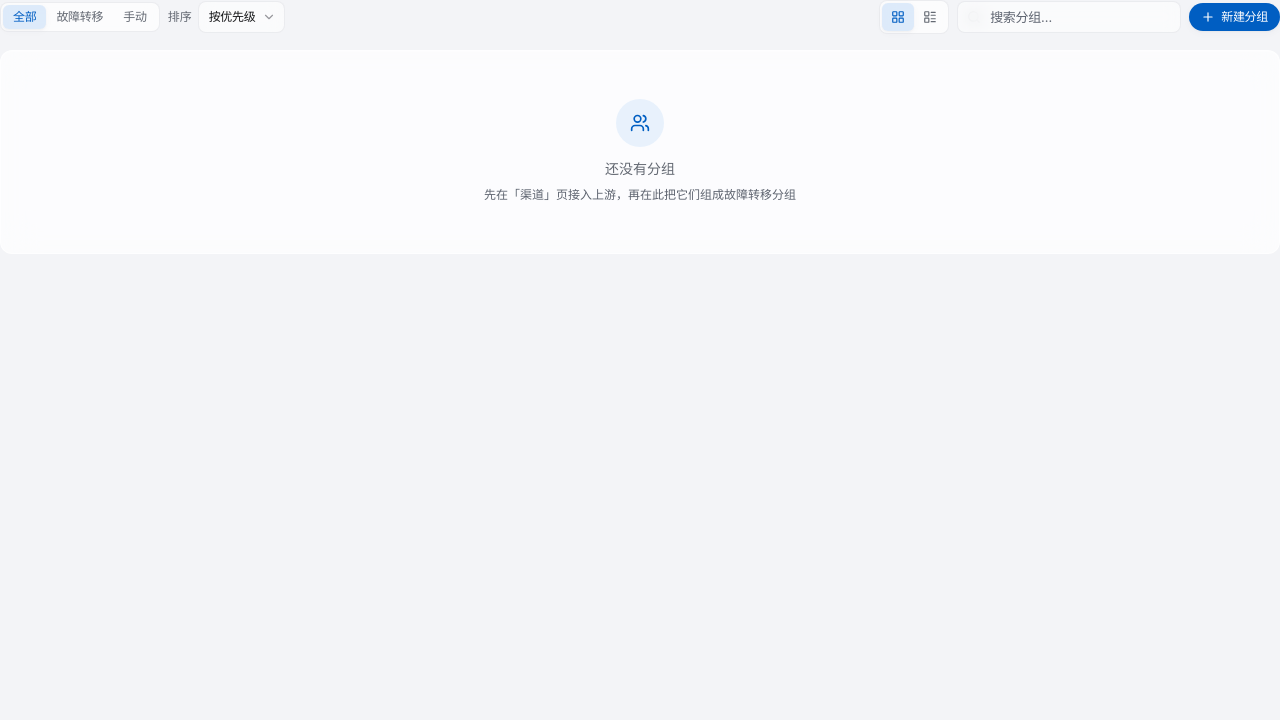
GroupEditor 保存校验 › 非法名称（NAME_RULE 不通过）时保存禁用，红字提示不可绕过
Click the button "新建分组" at x=1235, y=17, box [1189,3,1279,31]
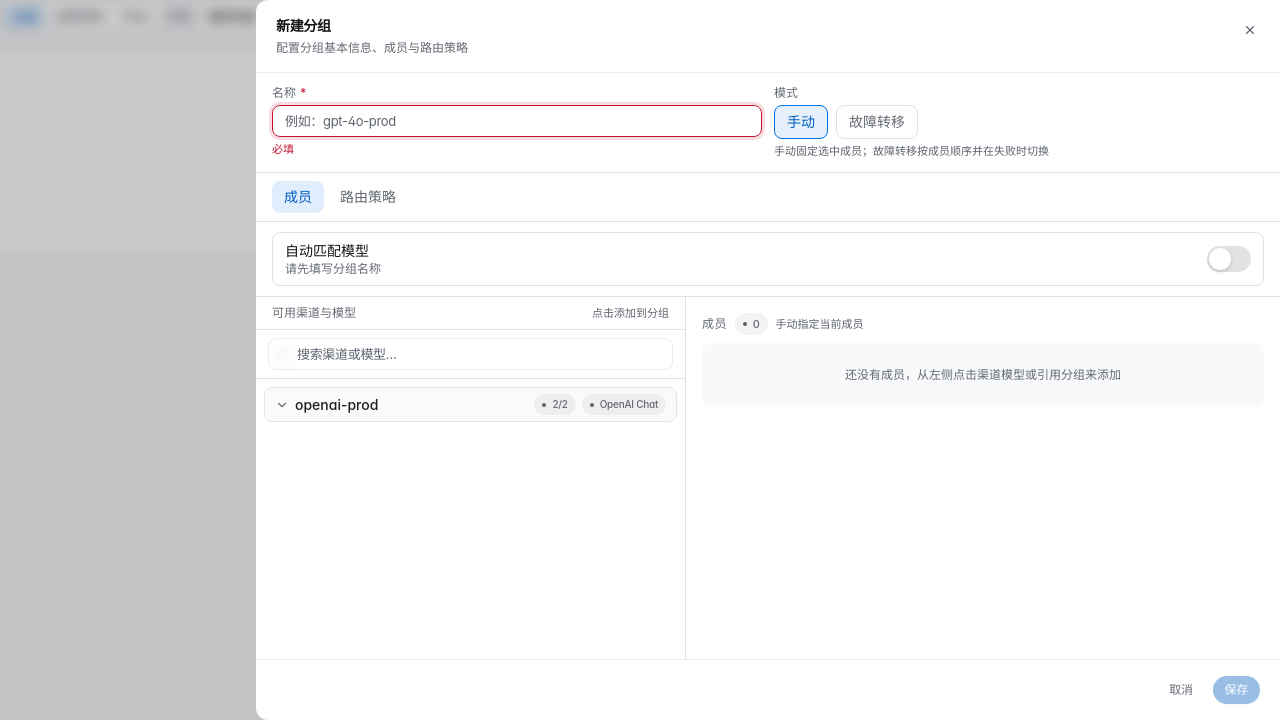
Check: the dialog is shown
Check: the button "保存" is disabled, box [1213,676,1260,704]
// Field 的 label 文本含 required 星号与 sr-only「必填」，须用前缀正则匹配
Type "a!b" into the field labelled "名称 * 必填" at x=517, y=121, box [272,105,762,137]
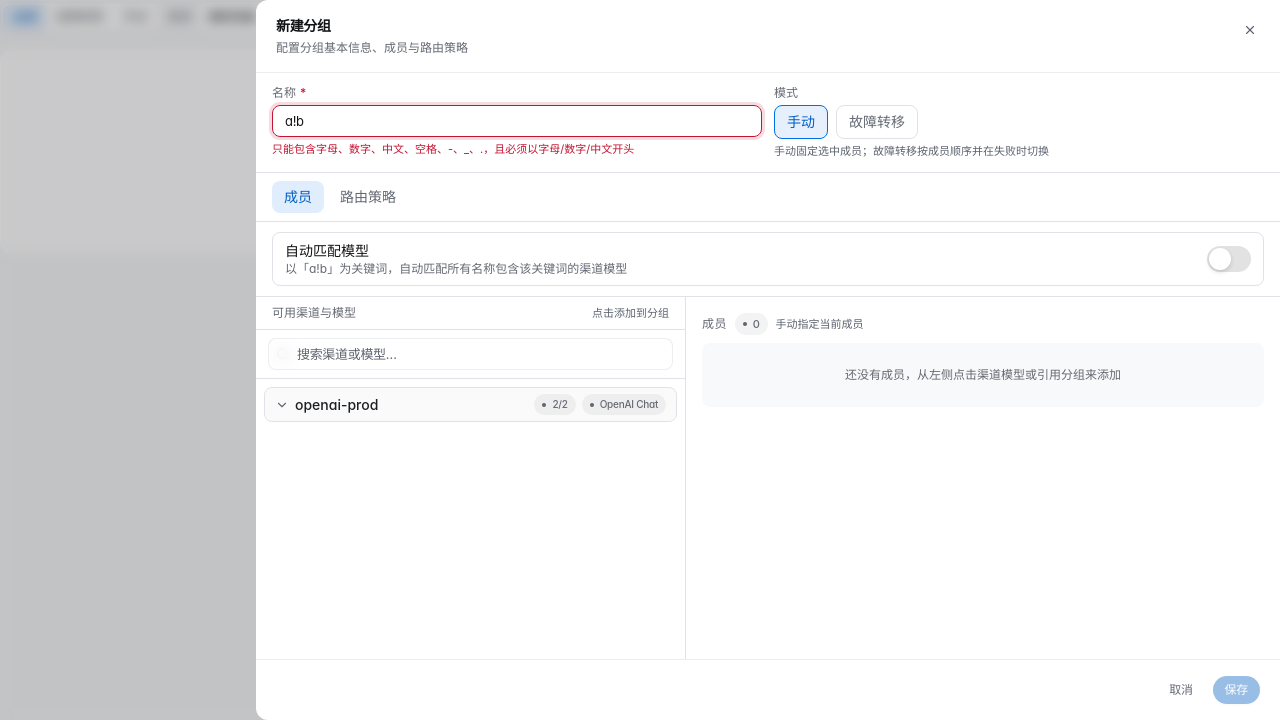
Check: the button "保存" is disabled, box [1213,676,1260,704]
Check: the text "只能包含字母、数字、中文、空格、-、_、.，且必须以字母/数字/中文开头" is shown, box [272,142,634,156]
Replace the text in the field labelled "名称 * 只能包含字母、数字、中文、空格、-、_、.，且必须以字母/数字/中文开头" with "合法名称" at x=517, y=121, box [272,105,762,137]
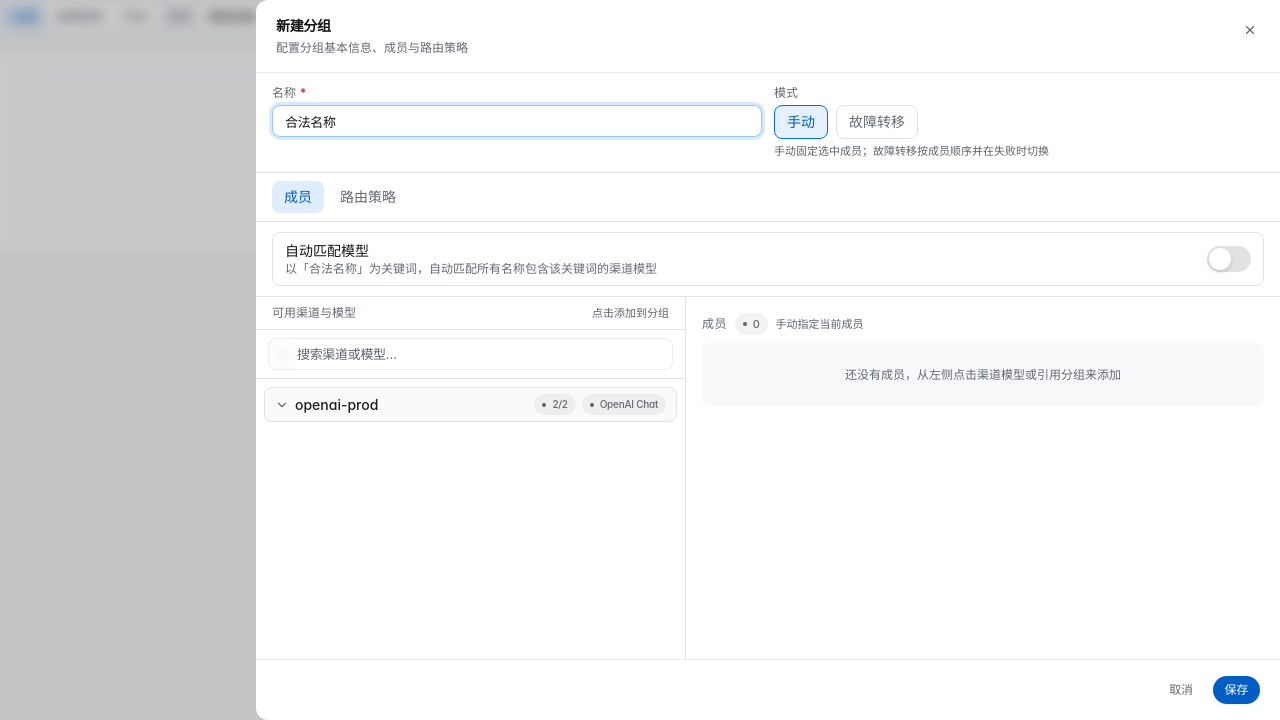
Check: the button "保存" is enabled, box [1213,676,1260,704]
